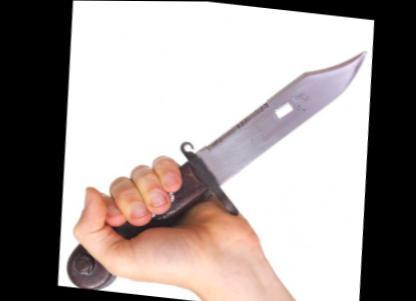knife: (108, 18, 379, 259)
